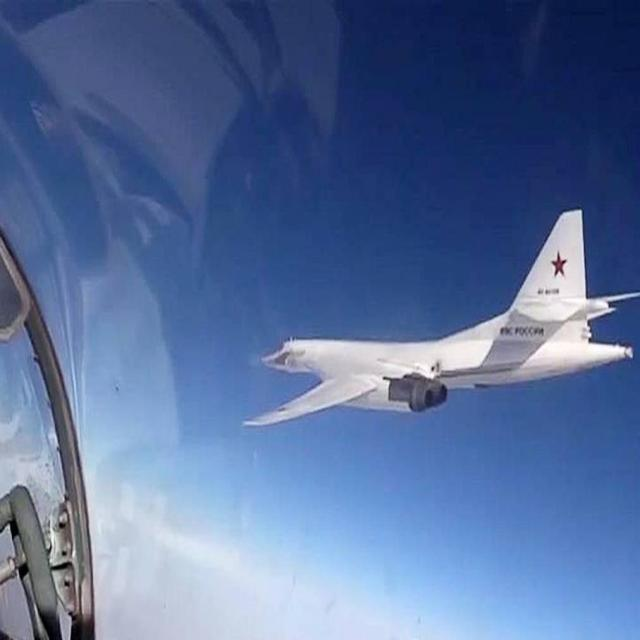MIL_Plane: (240, 208, 640, 429)
